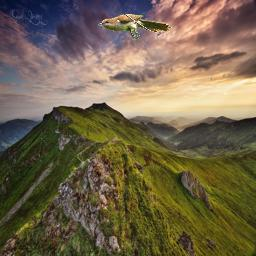Cuckoo: (98, 14, 172, 40)
